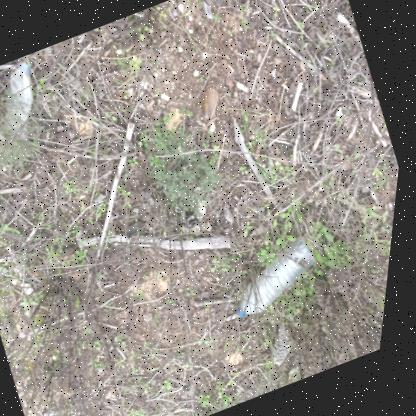Plastic: (244, 235, 321, 317), (8, 62, 36, 129)
